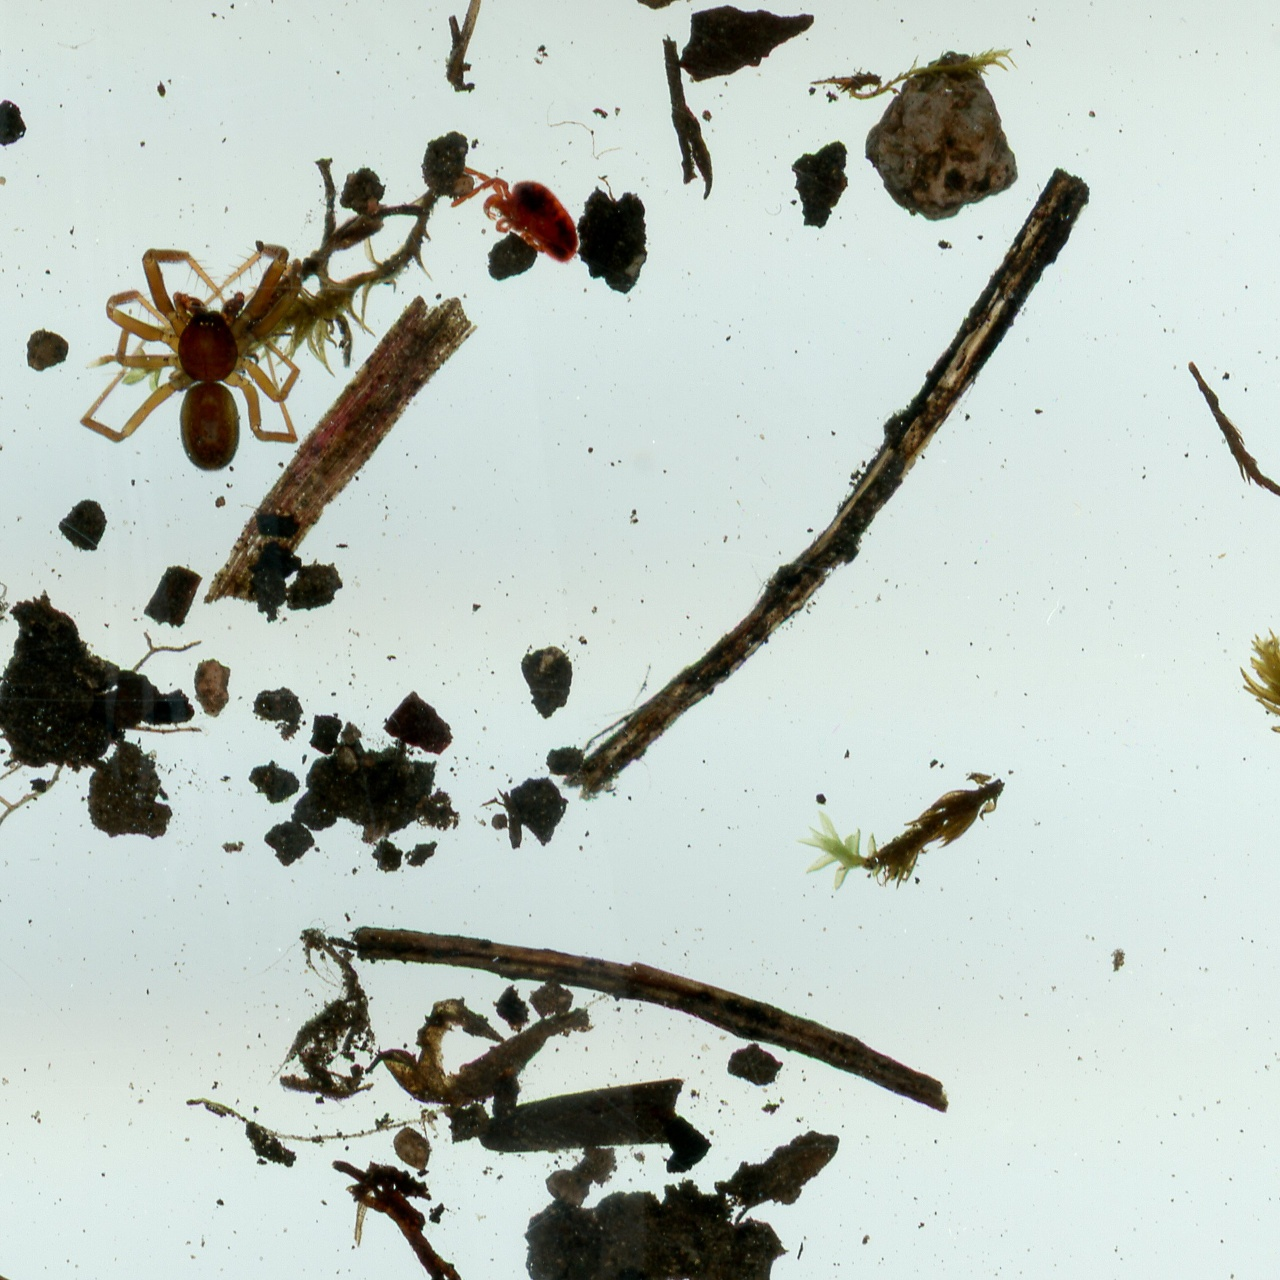arthropod: (75, 240, 305, 476), (446, 157, 582, 270)
